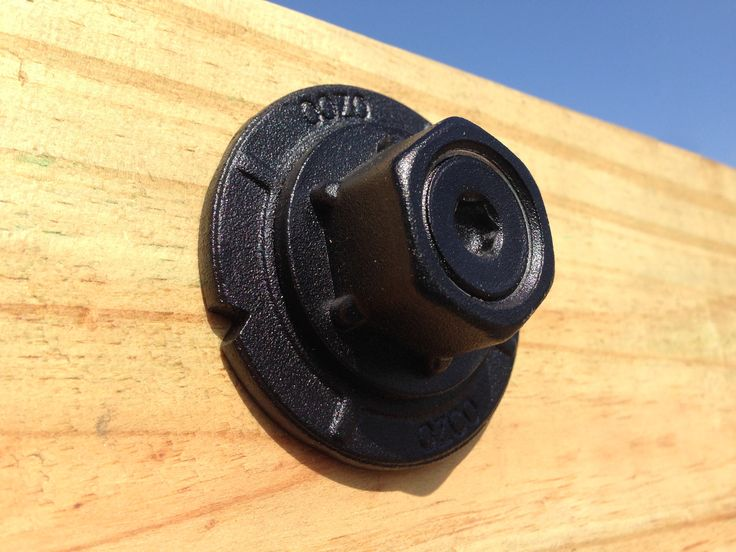bolt: (190, 75, 560, 481)
